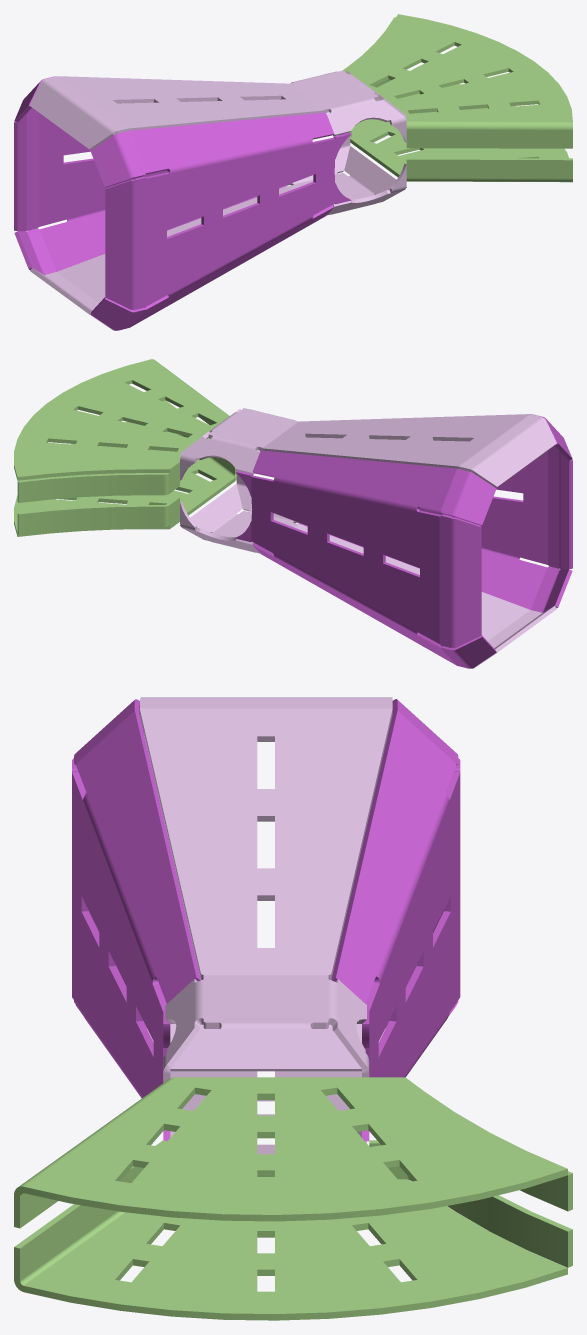
Rendered from shell.gltf.
The picture shows the model from 3 angles, top to bottom: view 1: azimuth 30°, elevation 25°; view 2: azimuth 150°, elevation 25°; view 3: azimuth 270°, elevation 25°; orthographic projection. The views are drawn at different scales.
Parts seen in each view (by area): view 1: Part 16, Part 18, Part 17, Part 15, Part 24, Part 14; view 2: Part 15, Part 18, Part 17, Part 16, Part 14, Part 24, Part 25, Part 19; view 3: Part 17, Part 18, Part 24, Part 16, Part 15, Part 25, Part 14, Part 19.
Part boxes in pixels (<box>): Part 16: <box>90,112,351,330</box>; Part 18: <box>343,14,572,148</box>; Part 17: <box>30,70,406,150</box>; Part 15: <box>14,76,286,274</box>; Part 24: <box>350,84,572,182</box>; Part 14: <box>30,132,406,330</box>; Part 15: <box>235,450,496,668</box>; Part 18: <box>14,359,229,480</box>; Part 17: <box>180,408,556,488</box>; Part 16: <box>299,414,572,612</box>; Part 14: <box>180,470,556,668</box>; Part 24: <box>14,400,236,536</box>; Part 25: <box>17,496,179,534</box>; Part 19: <box>17,466,179,502</box>; Part 17: <box>140,697,392,1082</box>; Part 18: <box>14,1077,567,1228</box>; Part 24: <box>14,1140,567,1320</box>; Part 16: <box>72,699,200,1141</box>; Part 15: <box>331,699,460,1141</box>; Part 25: <box>369,1140,572,1267</box>; Part 14: <box>147,1024,385,1154</box>; Part 19: <box>520,1171,572,1211</box>.
Bounding box in the file's own units: 0.2782 × 0.1109 × 0.1597.
